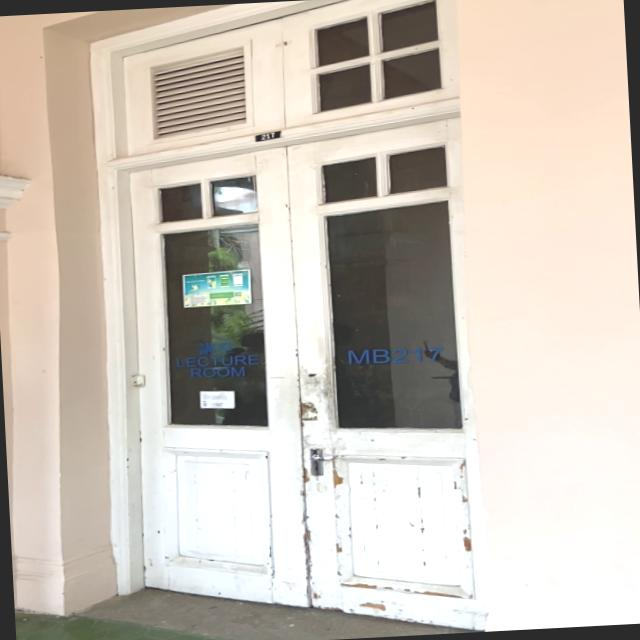room217: (252, 128, 282, 144)
room217Window: (341, 342, 448, 370)
